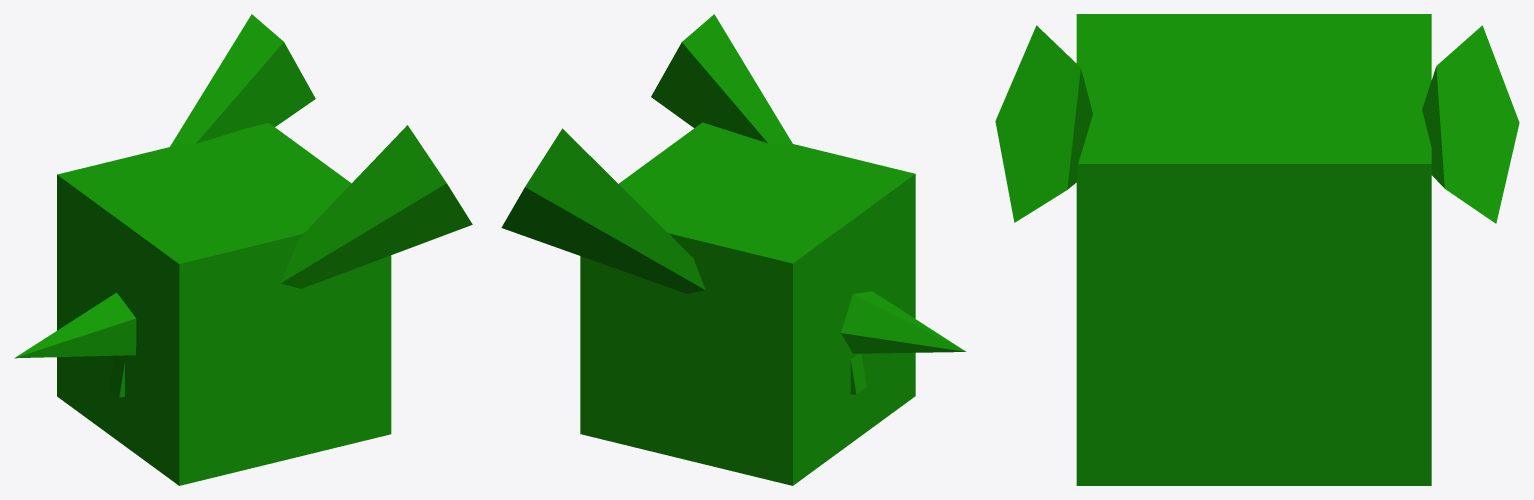
The model's file is Goblin_ConceptArt.gltf.
The picture shows the model from 3 angles, left to right: view 1: azimuth 30°, elevation 25°; view 2: azimuth 150°, elevation 25°; view 3: azimuth 270°, elevation 25°; orthographic projection. The views are drawn at different scales.
Parts seen in each view (by area): view 1: Cube.001; view 2: Cube.001; view 3: Cube.001.
Boxes of the visible parts, <box> form: Cube.001: <box>14,14,472,485</box>; Cube.001: <box>501,14,965,485</box>; Cube.001: <box>995,14,1519,485</box>.
Size of the model in its own units: 3.59 by 2.87 by 2.95.
